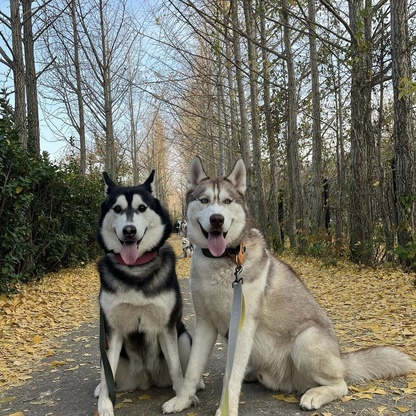husky: (180, 151, 416, 415), (87, 163, 183, 416)
